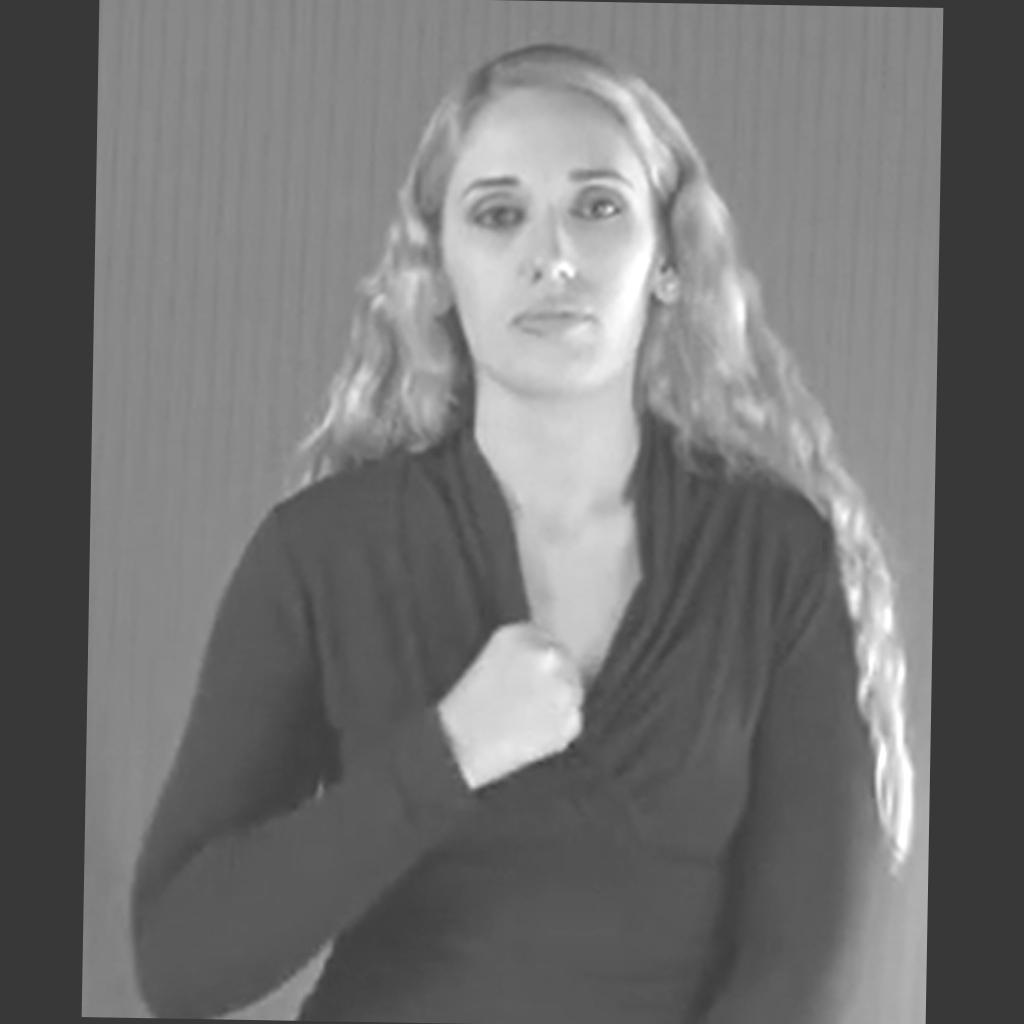sorry: (439, 622, 586, 778)
